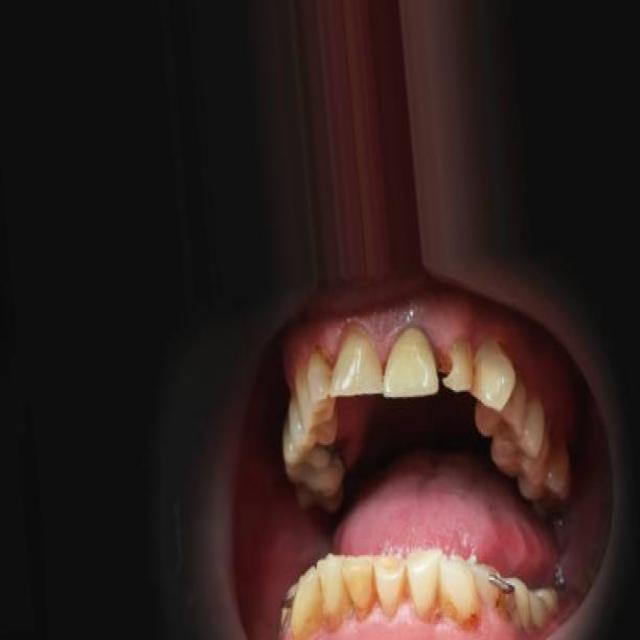caries: (426, 332, 461, 388)
